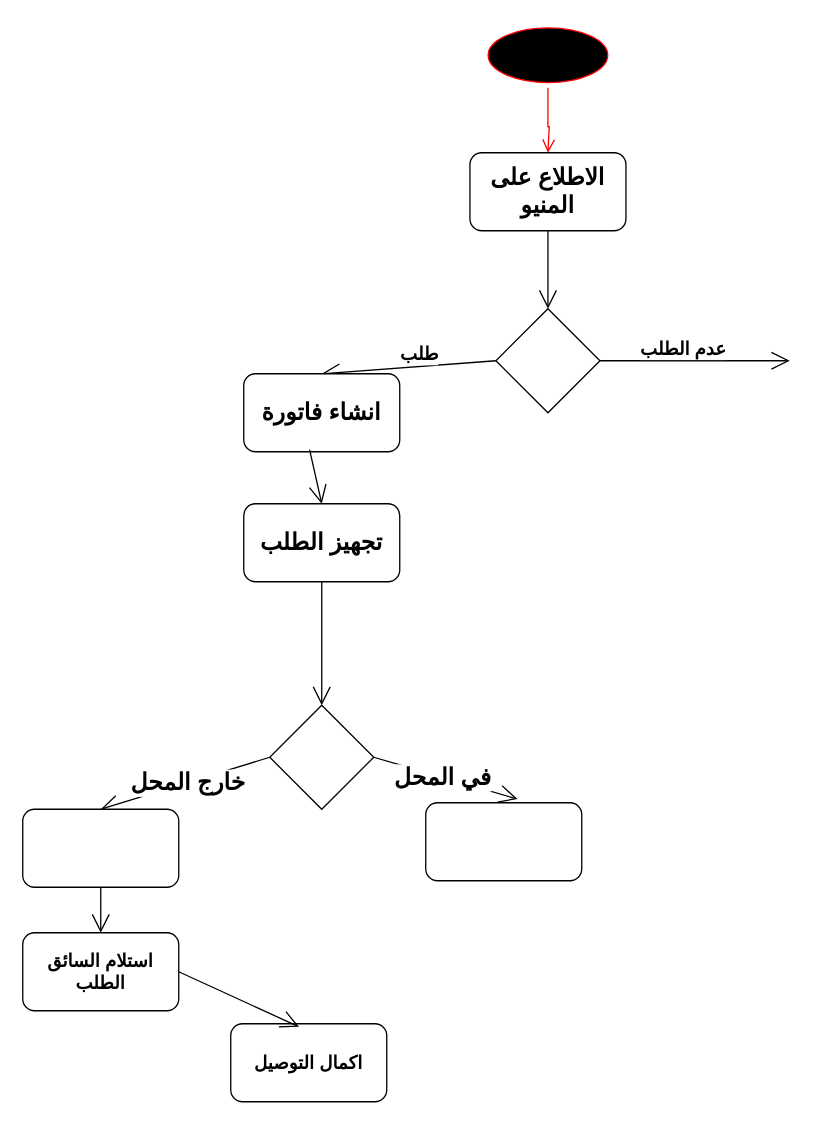
Some shapes in this 831 by 1125 pixel diagram are drawn without their labels. The shapes that lost their labels are listed below. From the top down, each one's box as (x1, y1, x2, y2) in pixels, then its label:
(21, 808, 179, 887): التواصل مع شركات توصيل
(424, 801, 582, 881): تجهيز الطاولة
